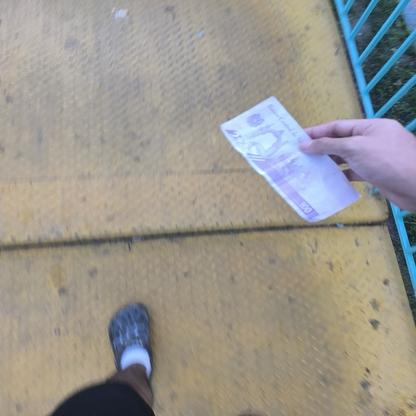one_hundred-back-vef: (218, 95, 362, 224)
